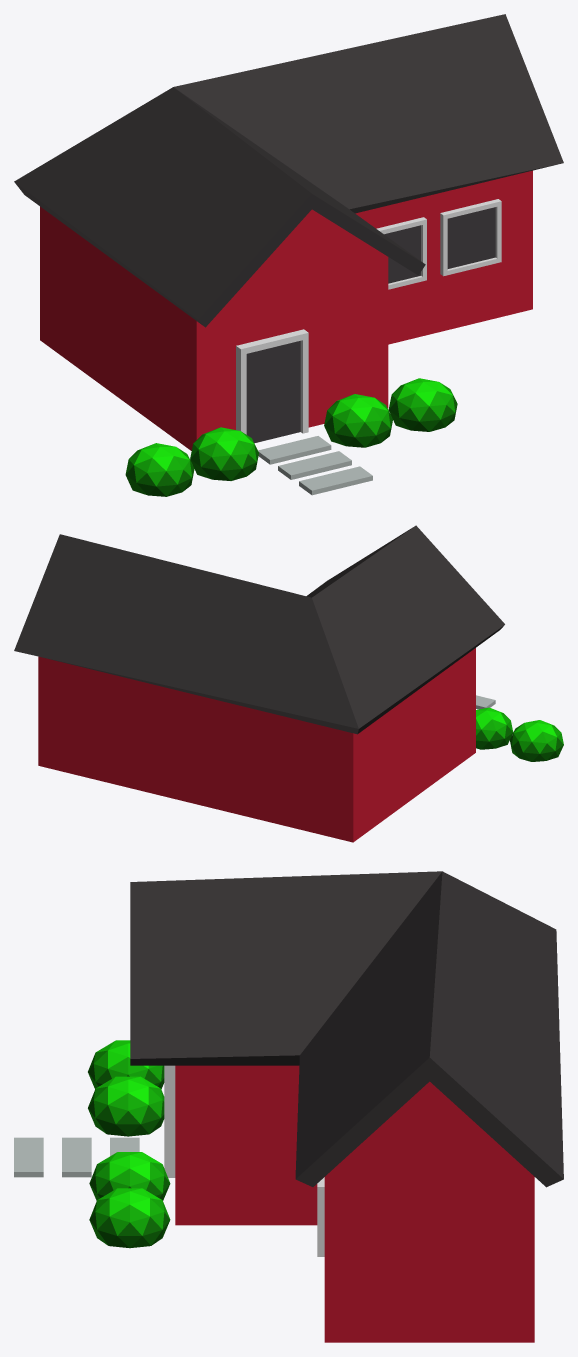
Rendered from production_house.glb.
3 renders of one model, top to bottom at view 1: azimuth 30°, elevation 25°; view 2: azimuth 150°, elevation 25°; view 3: azimuth 270°, elevation 25°, orthographic. The views are drawn at different scales.
Visible parts, largest first — view 1: Cube.001, Cube, Cube.003, Cube.006, Cube.002, Icosphere.003, Icosphere.008, Icosphere.001, Icosphere.002, Cube.004, Cube.005; view 2: Cube.001, Cube, Icosphere.008, Icosphere.001; view 3: Cube.001, Cube, Icosphere.003, Icosphere.001, Cube.002, Icosphere.002, Icosphere.008, Cube.004, Cube.006.
Part boxes in pixels (x1,y1,x2,y2): Cube.001: [14, 14, 563, 327]; Cube: [40, 170, 532, 450]; Cube.003: [246, 341, 300, 443]; Cube.006: [440, 199, 501, 276]; Cube.002: [258, 436, 372, 495]; Icosphere.003: [388, 378, 457, 431]; Icosphere.008: [125, 443, 194, 496]; Icosphere.001: [190, 427, 258, 480]; Icosphere.002: [324, 394, 392, 447]; Cube.004: [236, 329, 308, 434]; Cube.005: [376, 217, 426, 289]; Cube.001: [14, 525, 504, 734]; Cube: [38, 648, 475, 842]; Icosphere.008: [510, 720, 563, 761]; Icosphere.001: [476, 707, 513, 749]; Cube.001: [130, 871, 563, 1187]; Cube: [175, 1065, 534, 1342]; Icosphere.003: [89, 1188, 170, 1248]; Icosphere.001: [88, 1076, 164, 1136]; Cube.002: [14, 1137, 139, 1177]; Icosphere.002: [89, 1152, 170, 1200]; Icosphere.008: [88, 1040, 164, 1088]; Cube.004: [164, 1065, 175, 1177]; Cube.006: [317, 1177, 324, 1256].
Bounding box in the file's own units: 5.28 × 2.59 × 4.33.
